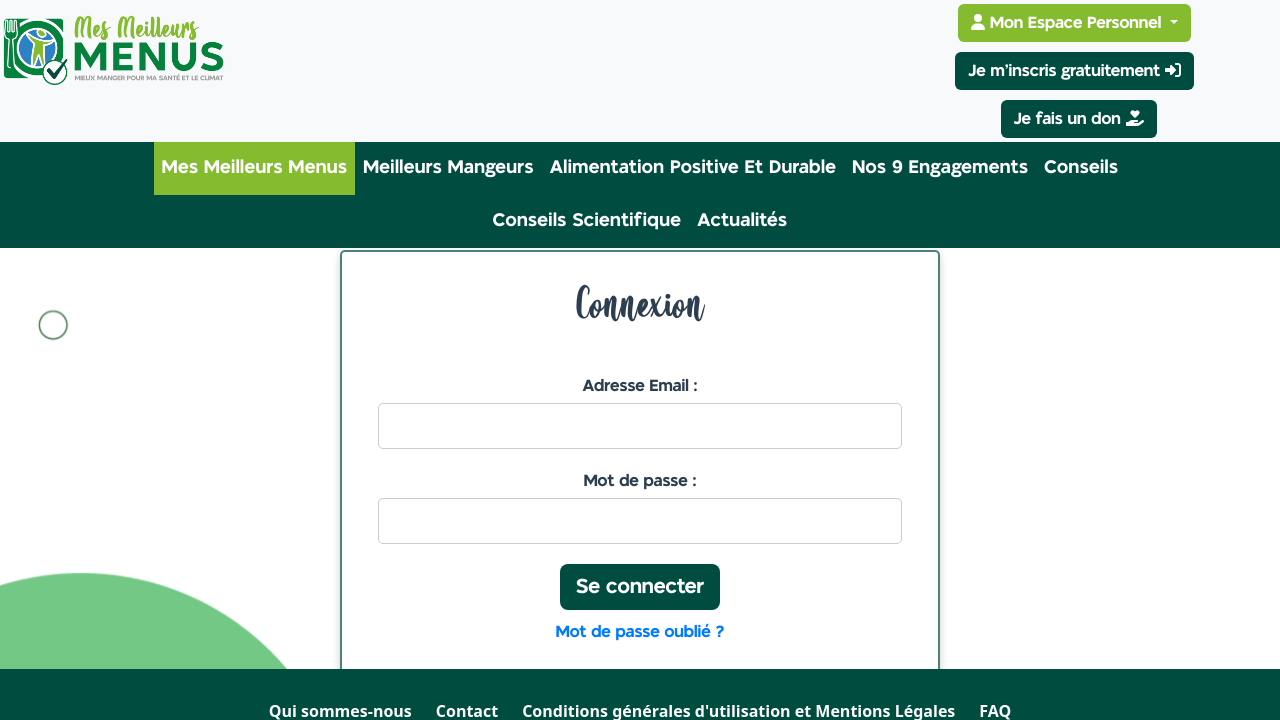
Scenario: Modal Interaction Tests › should submit the forget password form with valid email
Expected: the form is shown, [358,354,922,664]
Click the link "Mot de passe oublié ?": (641, 632) [556,624,725,640]
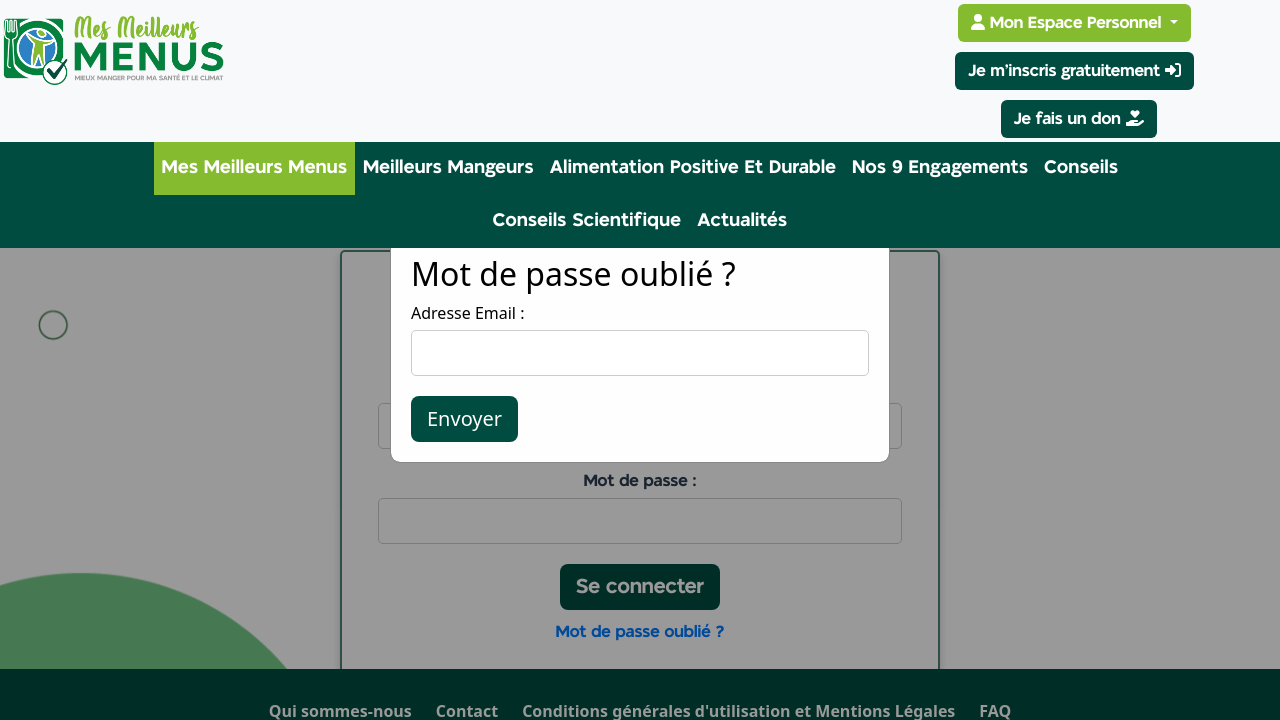
Result: the element with class "modal" is shown
In the field with id "forget-email": (640, 353) [411,330,869,376], type "test@example.com"
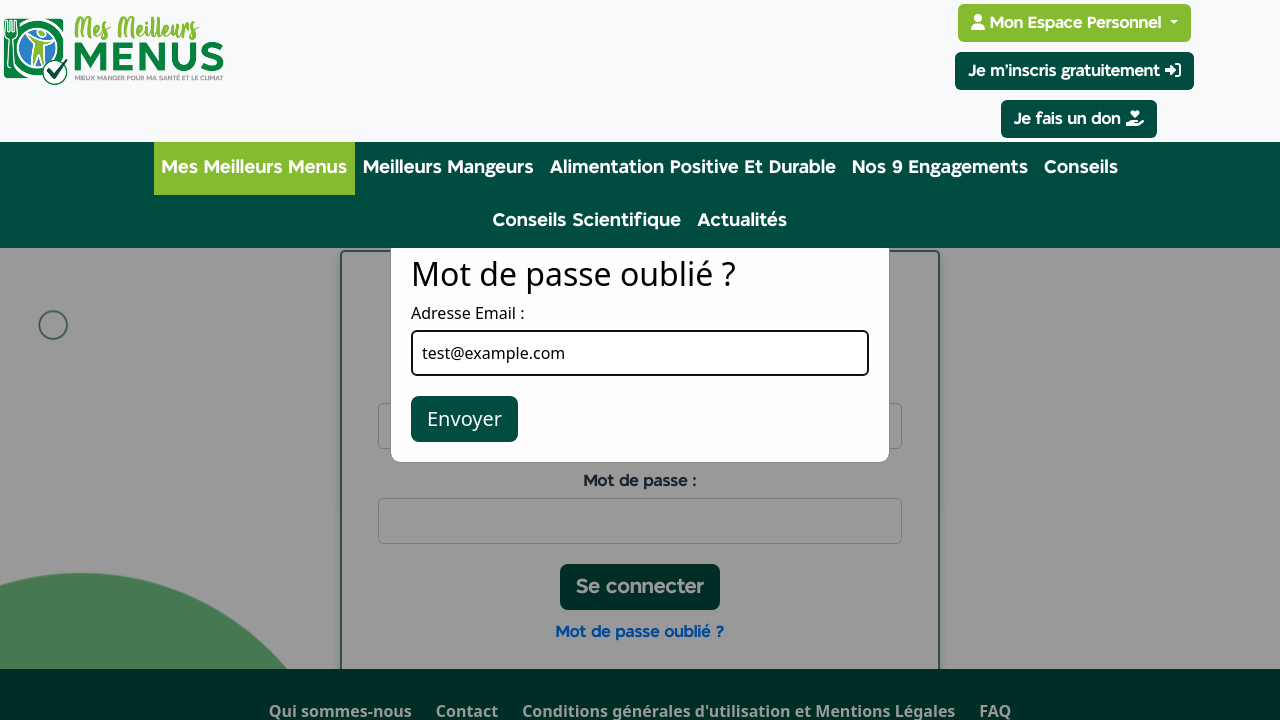
Submit the form, box [411,301,869,442]
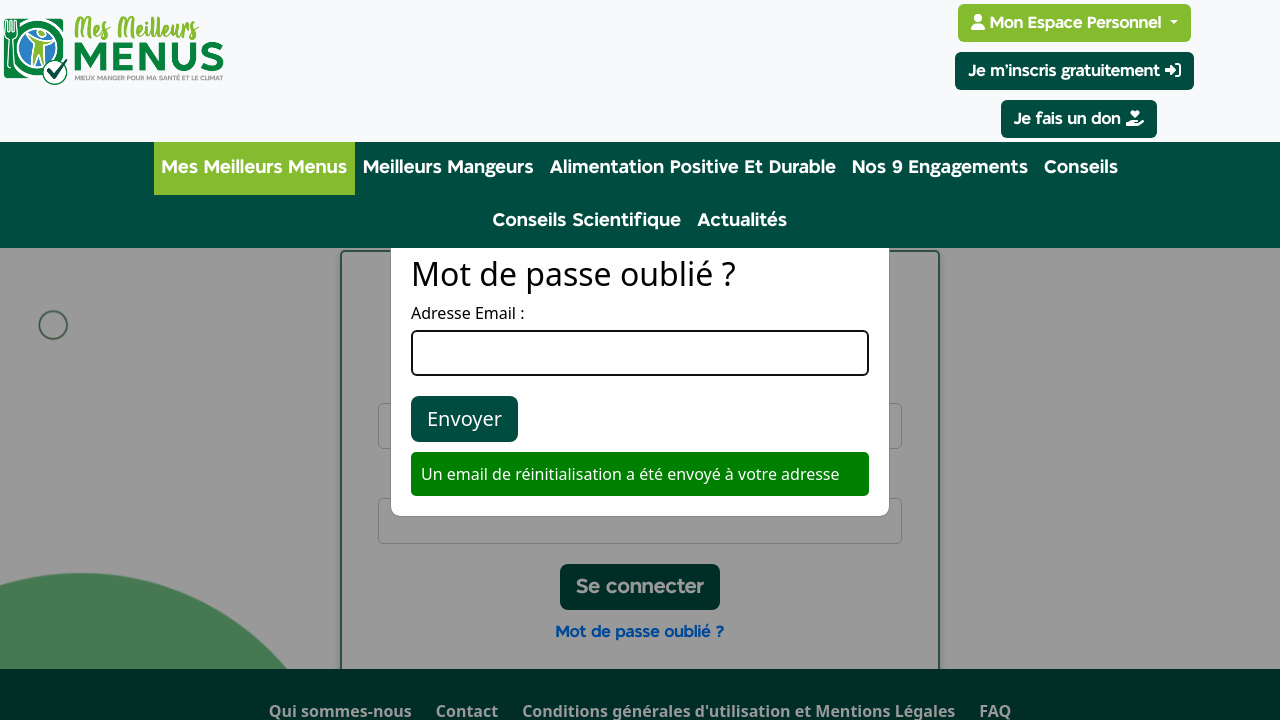
Result: the text with class "success" reads "Un email de réinitialisation a été envoyé à votre adresse" at [421,463,840,485]
